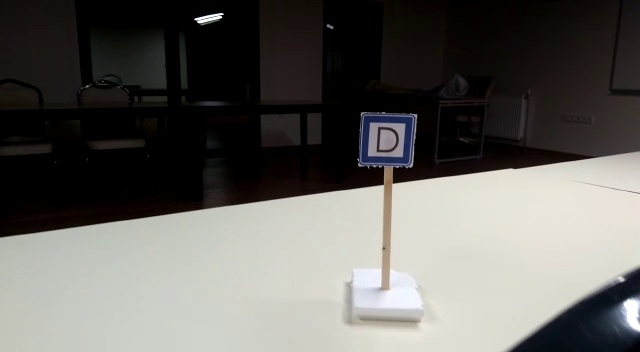durak: (358, 112, 416, 164)
